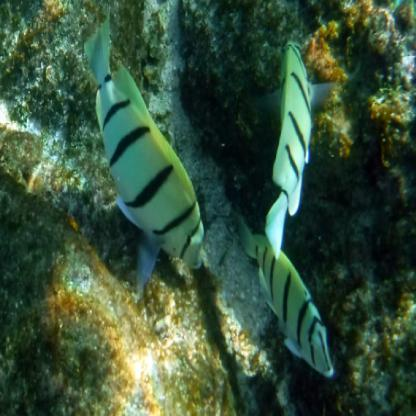surgeon: (84, 10, 205, 296), (255, 39, 336, 260), (237, 212, 336, 377)
